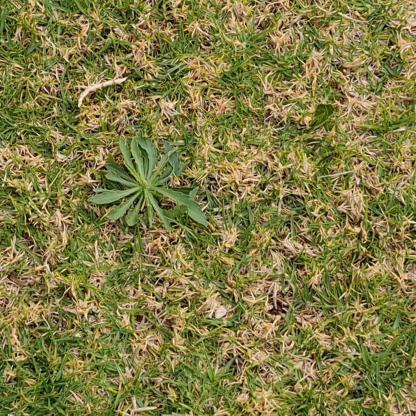Weeds: (87, 134, 208, 232)
